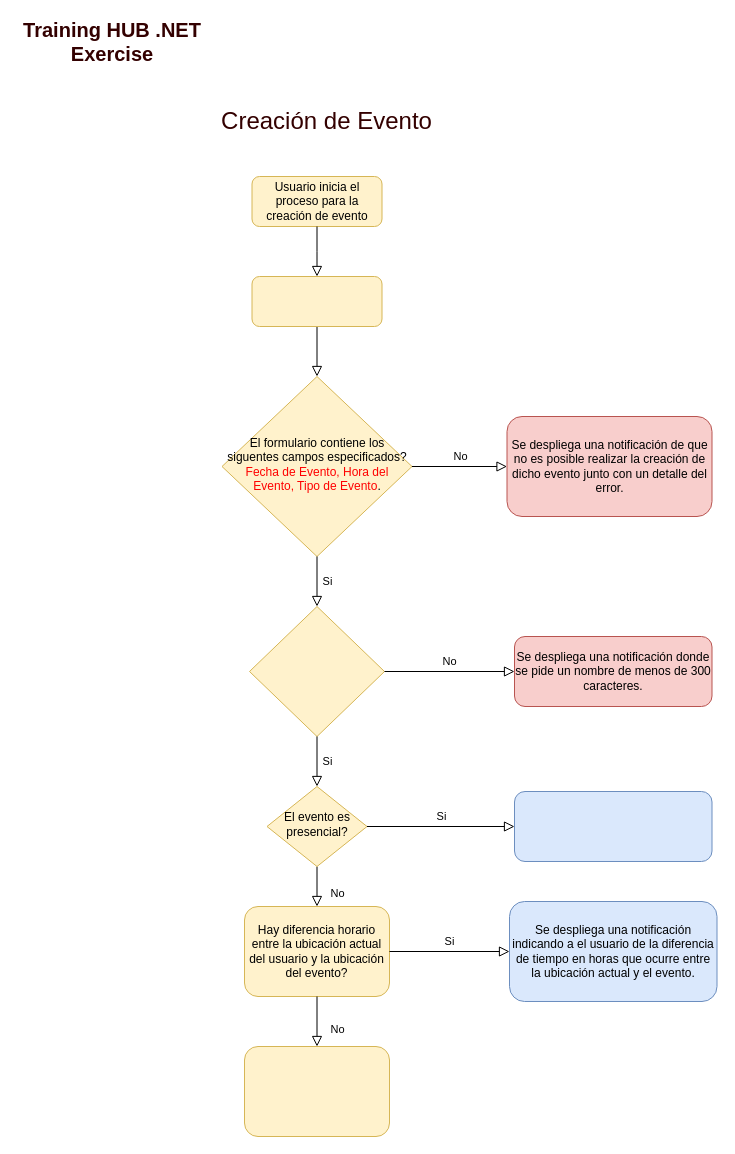
Some shapes in this 735 by 1154 pixel diagram are drawn without their labels. The centre of each missing label's shape, as x and y in pixels:
"El nombre del evento es menor de 300 caracteres?" goes at pixel 316 671.
"Se despliega formulario para la creación de evento" goes at pixel 316 301.
"Se eligen los usuarios que asistirán al evento." goes at pixel 317 1091.
"Se piden los datos de la ubicación: Ciudad, País, Longitud." goes at pixel 613 826.
